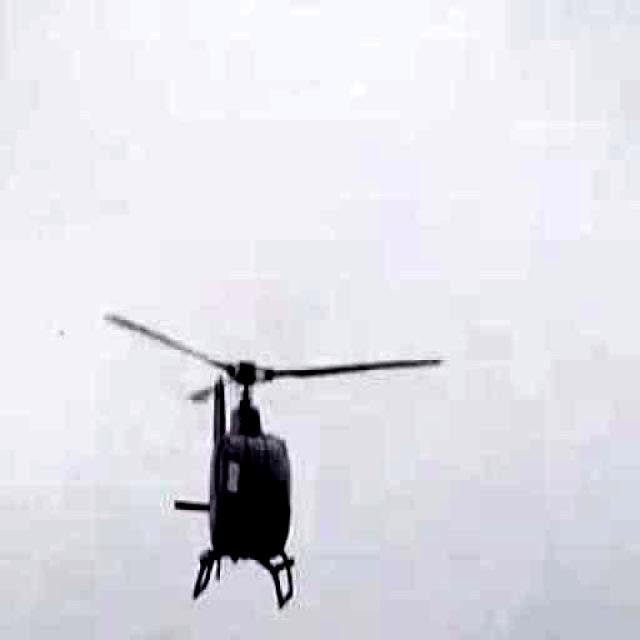drone: (49, 195, 449, 640)
